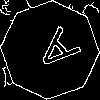A: (25, 25, 82, 81)
